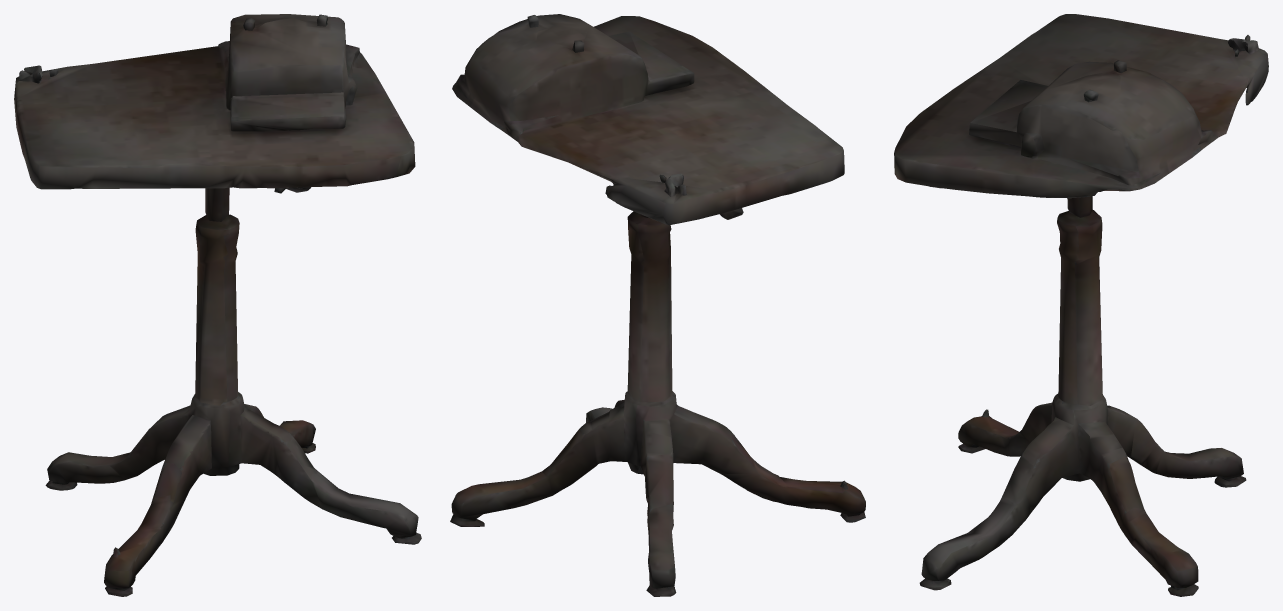
Rendered from weathered-iron-operating-table-v001.glb.
3 renders of one model, left to right at view 1: azimuth 30°, elevation 25°; view 2: azimuth 150°, elevation 25°; view 3: azimuth 270°, elevation 25°, orthographic. The views are drawn at different scales.
Parts seen in each view (by area): view 1: weathered-iron-operating-table; view 2: weathered-iron-operating-table; view 3: weathered-iron-operating-table.
Boxes of the visible parts, <box> form: weathered-iron-operating-table: <box>14,14,421,596</box>; weathered-iron-operating-table: <box>450,14,865,596</box>; weathered-iron-operating-table: <box>894,14,1268,596</box>.
Bounding box in the file's own units: 0.7567 × 0.9654 × 0.6684.
1 material, 1 textured.
